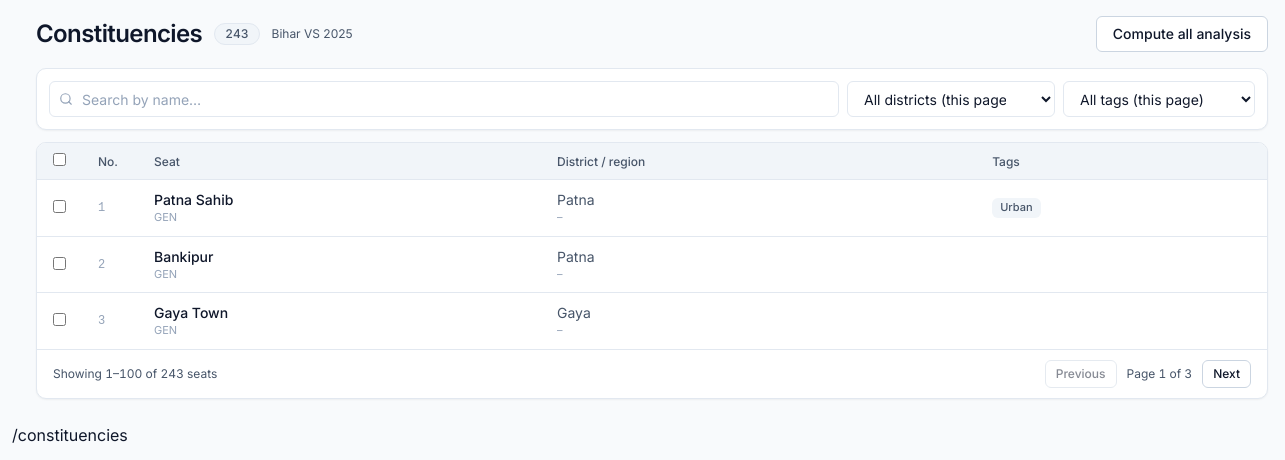
Test: Constituencies page › a district filter picked on page 1 is gone on page 2, and the selection clears
Expected: the text "Patna Sahib" is shown, [154,191,233,208]
Select "Patna" in the dropdown named "District (this page)": (951, 99) [847,81,1055,117]
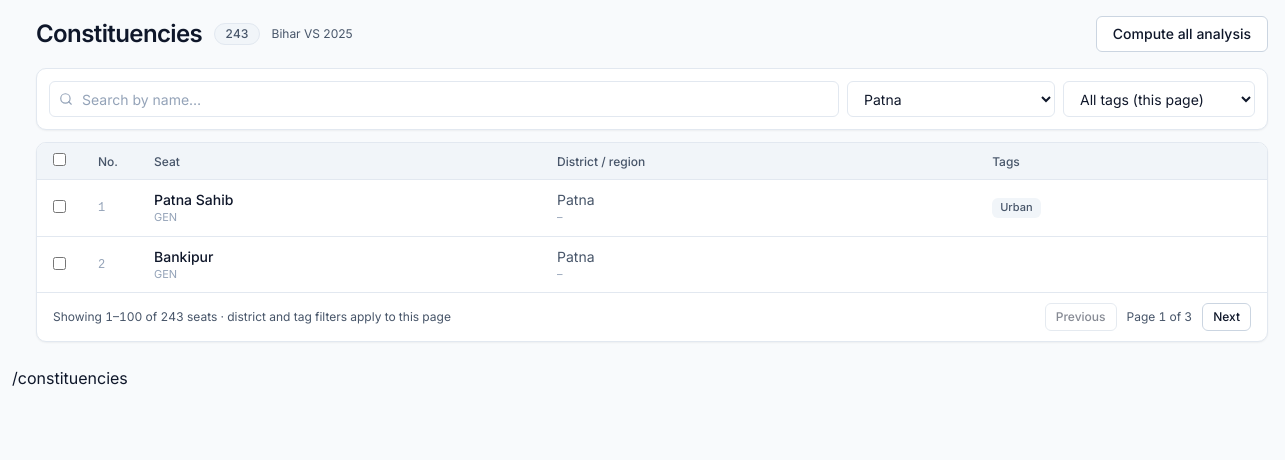
Click the checkbox named "Select Bankipur": (60, 263) [53,256,66,270]
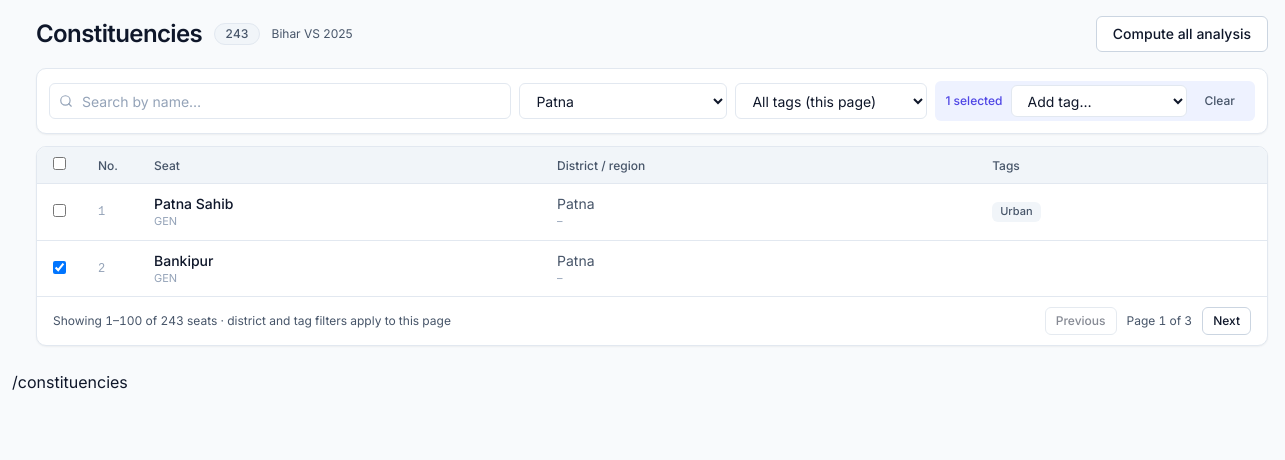
Now the text "1 selected" is shown, box [945,93,1002,109]
Click the button "Next": (1227, 321) [1202,307,1251,335]
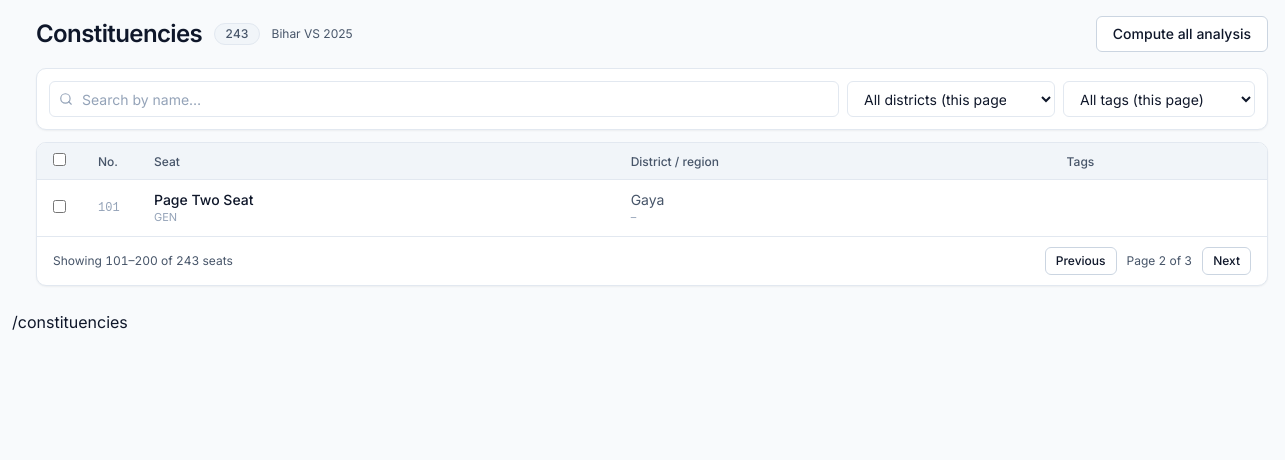
Now the text "Page Two Seat" is shown, box [154,191,254,208]
Now the text "1 selected" is gone
